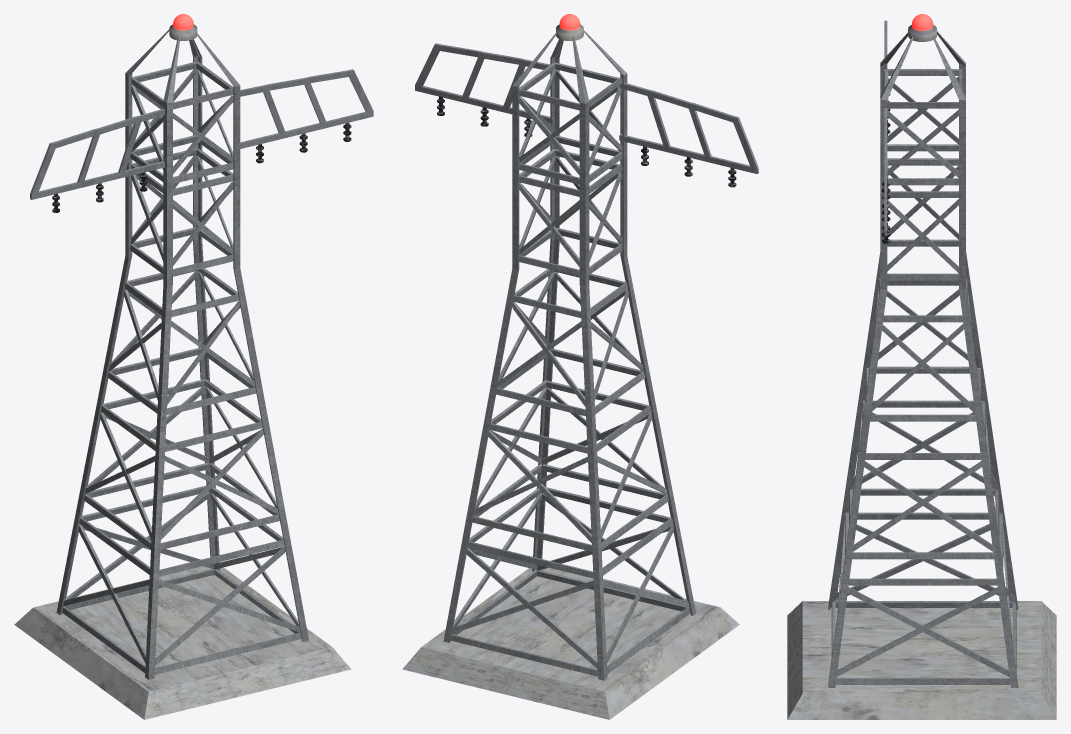
3 views of the same model, side by side, from view 1: azimuth 30°, elevation 25°; view 2: azimuth 150°, elevation 25°; view 3: azimuth 270°, elevation 25° (orthographic). The views are drawn at different scales.
Parts seen in each view (by area): view 1: Base, Chao, BaseFios, Luz; view 2: Base, Chao, BaseFios, Luz; view 3: Base, Chao, BaseFios, Luz.
Boxes of the visible parts, x1,y1,x2,y2 form: Base: [56, 29, 308, 679]; Chao: [14, 566, 351, 719]; BaseFios: [30, 69, 373, 212]; Luz: [169, 14, 197, 40]; Base: [443, 30, 695, 680]; Chao: [402, 567, 739, 719]; BaseFios: [415, 43, 758, 187]; Luz: [556, 14, 583, 40]; Base: [828, 31, 1018, 687]; Chao: [787, 601, 1056, 719]; BaseFios: [882, 20, 890, 243]; Luz: [908, 14, 936, 41].
Bounding box in the file's own units: 7.84 × 13.82 × 5.16.
Materials: 5 (5 with a texture image).
